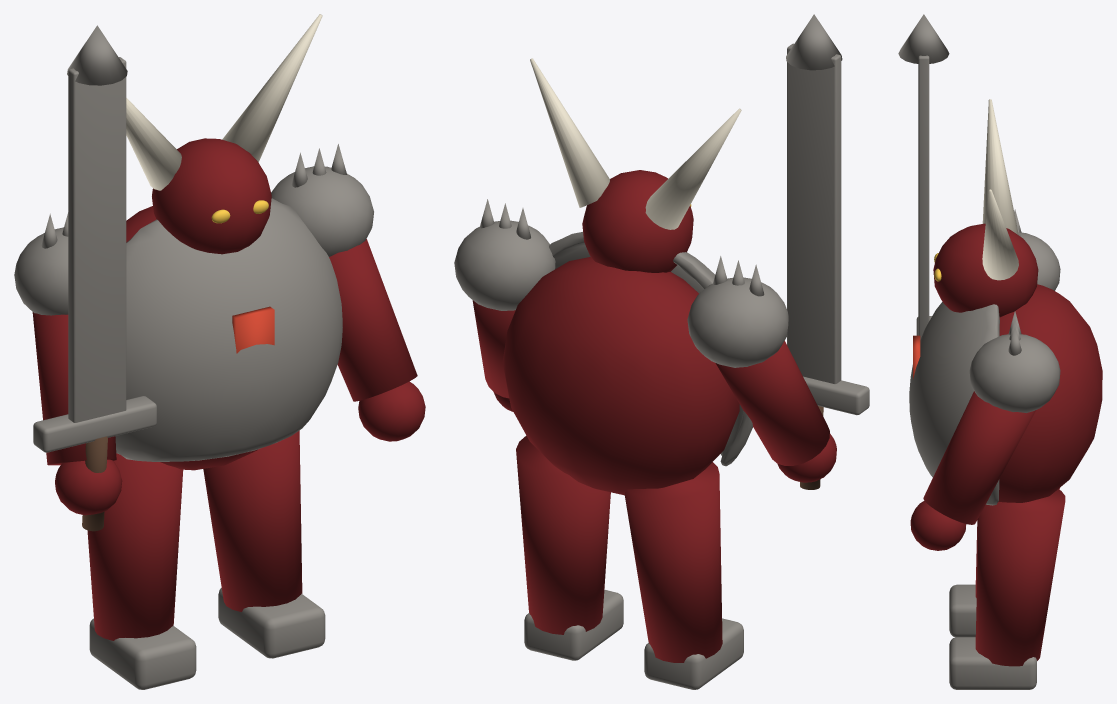
The model's file is LordOfWar.fbx.
3 renders of one model, left to right at view 1: azimuth 30°, elevation 25°; view 2: azimuth 150°, elevation 25°; view 3: azimuth 270°, elevation 25°, orthographic. The views are drawn at different scales.
Parts seen in each view (by area): view 1: LordOfWar; view 2: LordOfWar; view 3: LordOfWar.
Part boxes in pixels (x1,y1,x2,y2): LordOfWar: (14, 14, 425, 689); LordOfWar: (454, 14, 869, 689); LordOfWar: (898, 14, 1102, 689).
Size of the model in its own units: 1.03 by 1.75 by 0.5602.
